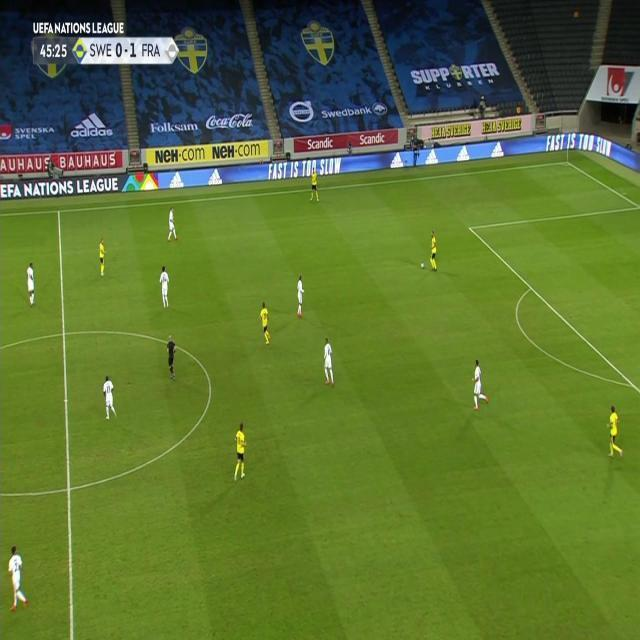ball: (421, 262, 426, 271)
player: (7, 545, 29, 612), (605, 405, 625, 461), (232, 421, 249, 484), (471, 359, 491, 411), (102, 376, 118, 422), (259, 302, 273, 349), (323, 337, 335, 390), (159, 266, 172, 309), (26, 261, 37, 309), (296, 275, 306, 321), (308, 167, 320, 205), (428, 229, 438, 274), (167, 207, 178, 242), (98, 238, 107, 278)
referee: (166, 334, 177, 383)
